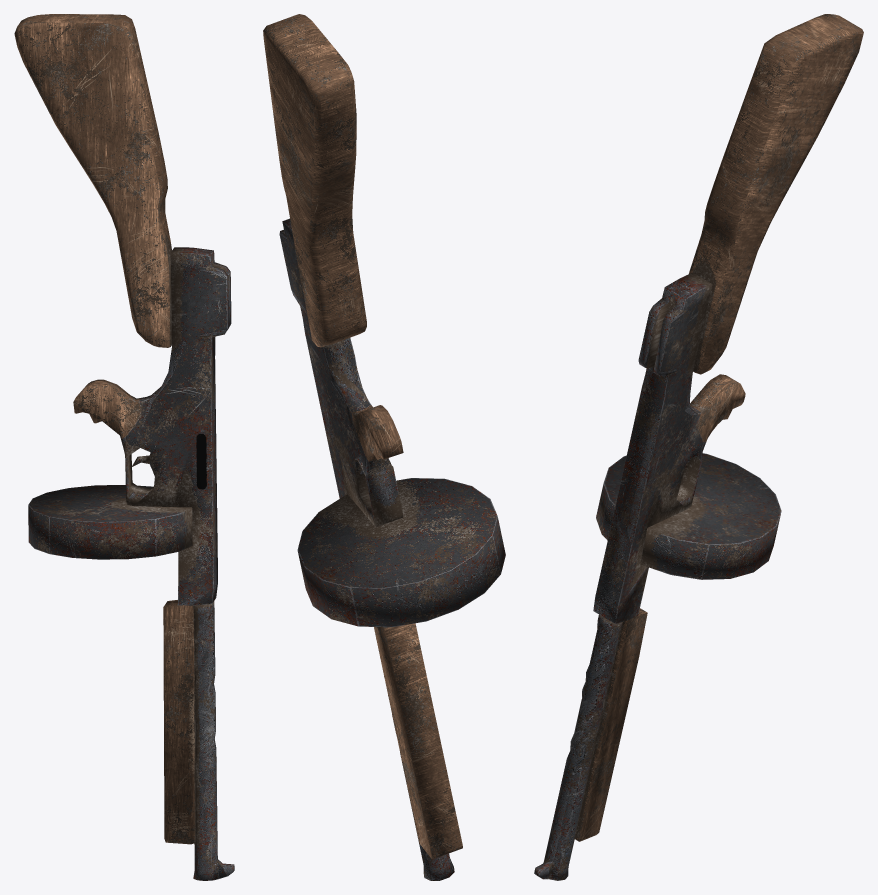
Rendered from Anim_idle_ametralladora_objetos.0025.obj.
The picture shows the model from 3 angles, left to right: view 1: azimuth 30°, elevation 25°; view 2: azimuth 150°, elevation 25°; view 3: azimuth 270°, elevation 25°; orthographic projection. The views are drawn at different scales.
Parts seen in each view (by area): view 1: Ametralladora1; view 2: Ametralladora1; view 3: Ametralladora1.
Part boxes in pixels (bbox=[...]): Ametralladora1: bbox=[14, 14, 234, 880]; Ametralladora1: bbox=[263, 14, 505, 880]; Ametralladora1: bbox=[534, 14, 863, 880].
Bounding box in the file's own units: 1.44 × 5.88 × 2.09.
